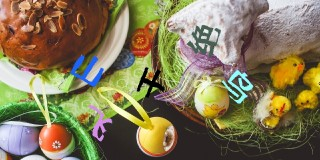千: (137, 65, 164, 98)
山: (70, 54, 104, 87)
绝: (187, 24, 221, 58)
飞: (85, 102, 113, 142)
鸟: (221, 68, 254, 106)
